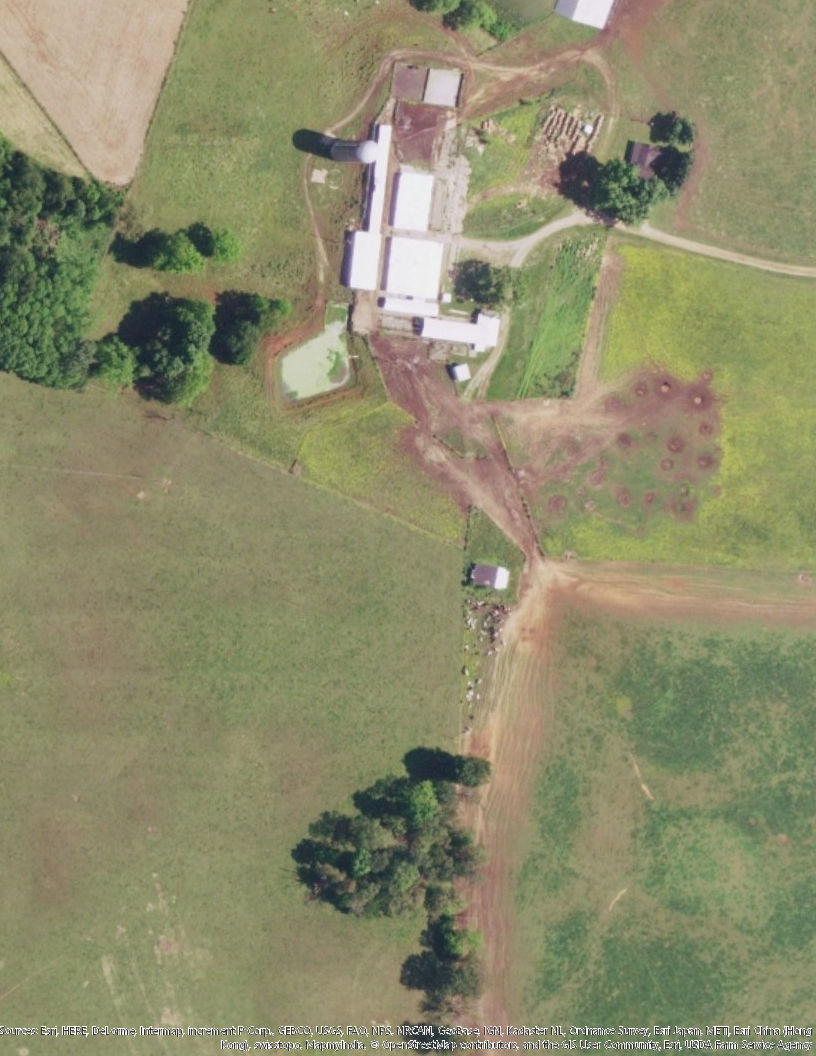cafo: (334, 109, 507, 362)
